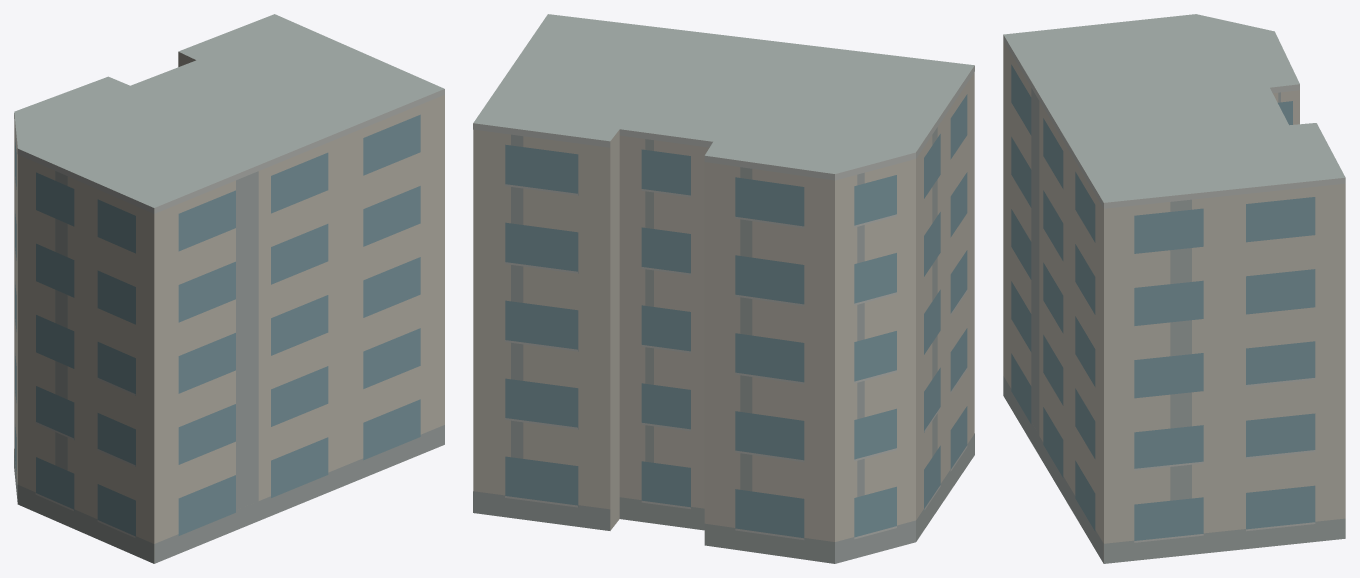
Rendered from survey-upis-32814797.glb.
3 renders of one model, left to right at view 1: azimuth 30°, elevation 25°; view 2: azimuth 150°, elevation 25°; view 3: azimuth 270°, elevation 25°, orthographic. The views are drawn at different scales.
Visible parts, largest first — view 1: survey-upis-32814797.tmp; view 2: survey-upis-32814797.tmp; view 3: survey-upis-32814797.tmp.
Part boxes in pixels (x1=…): survey-upis-32814797.tmp: x1=14, y1=14, x2=444, y2=563; survey-upis-32814797.tmp: x1=473, y1=14, x2=974, y2=563; survey-upis-32814797.tmp: x1=1003, y1=14, x2=1345, y2=563.
Bounding box in the file's own units: 16.67 × 14.85 × 12.77.
